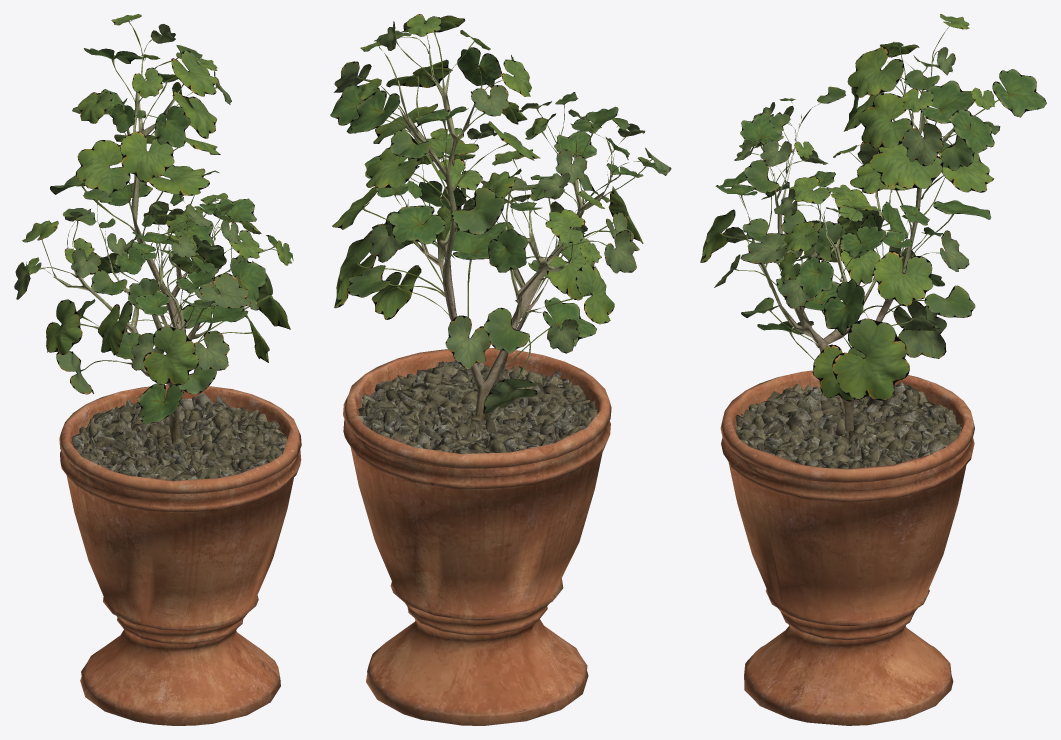
Rendered from potted_plant_01.glb.
3 views of the same model, side by side, from view 1: azimuth 30°, elevation 25°; view 2: azimuth 150°, elevation 25°; view 3: azimuth 270°, elevation 25° (orthographic). The views are drawn at different scales.
Parts seen in each view (by area): view 1: potted_plant_01_stem, potted_plant_01_leaves; view 2: potted_plant_01_stem, potted_plant_01_leaves; view 3: potted_plant_01_stem, potted_plant_01_leaves.
Boxes of the visible parts, x1,y1,x2,y2 form: potted_plant_01_stem: [54, 54, 301, 725]; potted_plant_01_leaves: [14, 14, 293, 423]; potted_plant_01_stem: [343, 47, 612, 725]; potted_plant_01_leaves: [330, 14, 671, 414]; potted_plant_01_stem: [720, 55, 974, 725]; potted_plant_01_leaves: [700, 14, 1046, 401].
Bounding box in the file's own units: 0.5874 × 1.34 × 0.6336.
2 materials, 2 textured.
